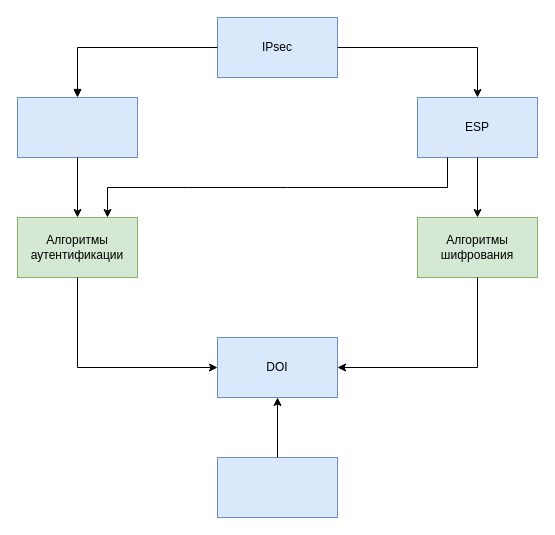
The diagram is 555 pixels wide and 535 high, and some of its shapes have lost their labels. The shapes that lost their labels are listed below. From the top down, each one's centre as x and y in pixels, then its label:
At point 77,127: "AH".
At point 277,487: "IKE".
